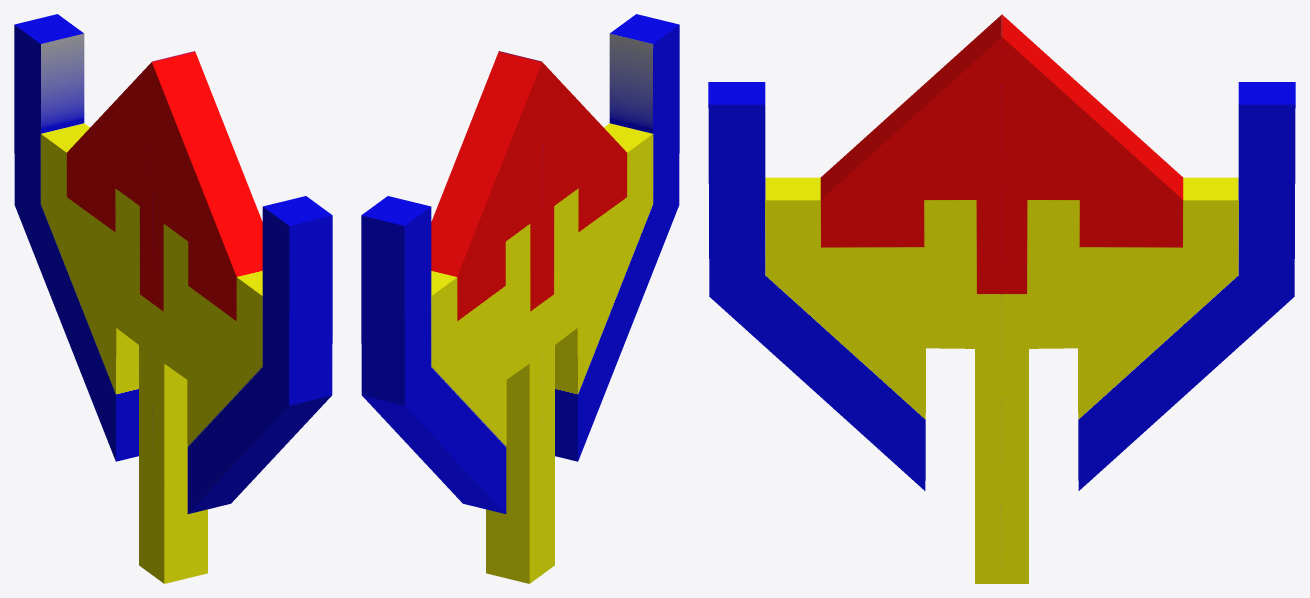
The model's file is BossGalaxian.fbx.
3 views of the same model, side by side, from view 1: azimuth 30°, elevation 25°; view 2: azimuth 150°, elevation 25°; view 3: azimuth 270°, elevation 25° (orthographic). The views are drawn at different scales.
Visible parts, largest first — view 1: BossGalaxian; view 2: BossGalaxian; view 3: BossGalaxian.
Part boxes in pixels (box(x1,y1,x2,y2)): BossGalaxian: box(14, 14, 332, 583); BossGalaxian: box(361, 14, 679, 583); BossGalaxian: box(708, 14, 1295, 583).
Bounding box in the file's own units: 8 × 90.35 × 87.82.
